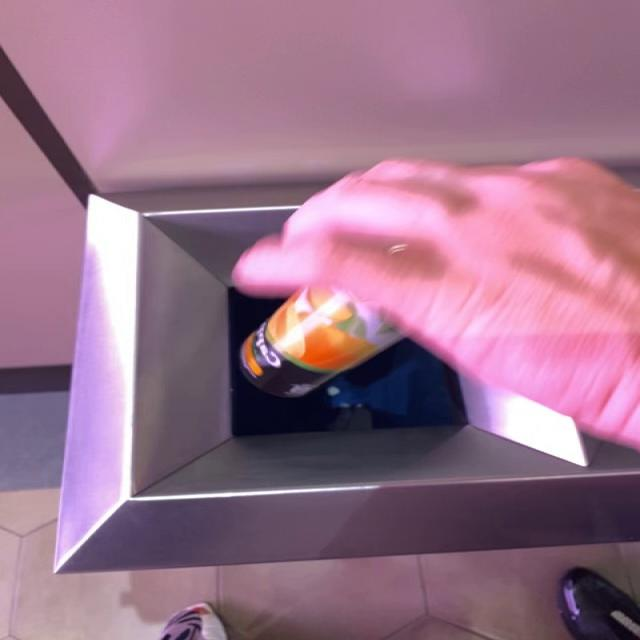bin: (56, 186, 467, 572)
metal: (240, 287, 403, 398)
